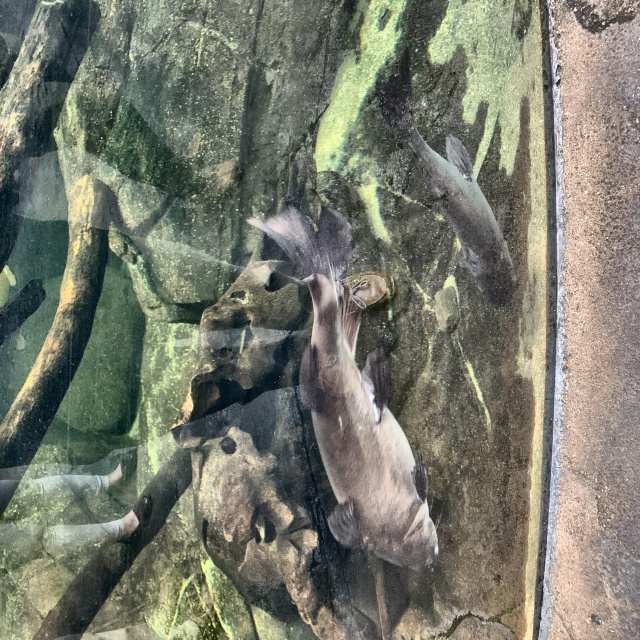fish: (246, 200, 442, 579), (377, 66, 519, 315)
